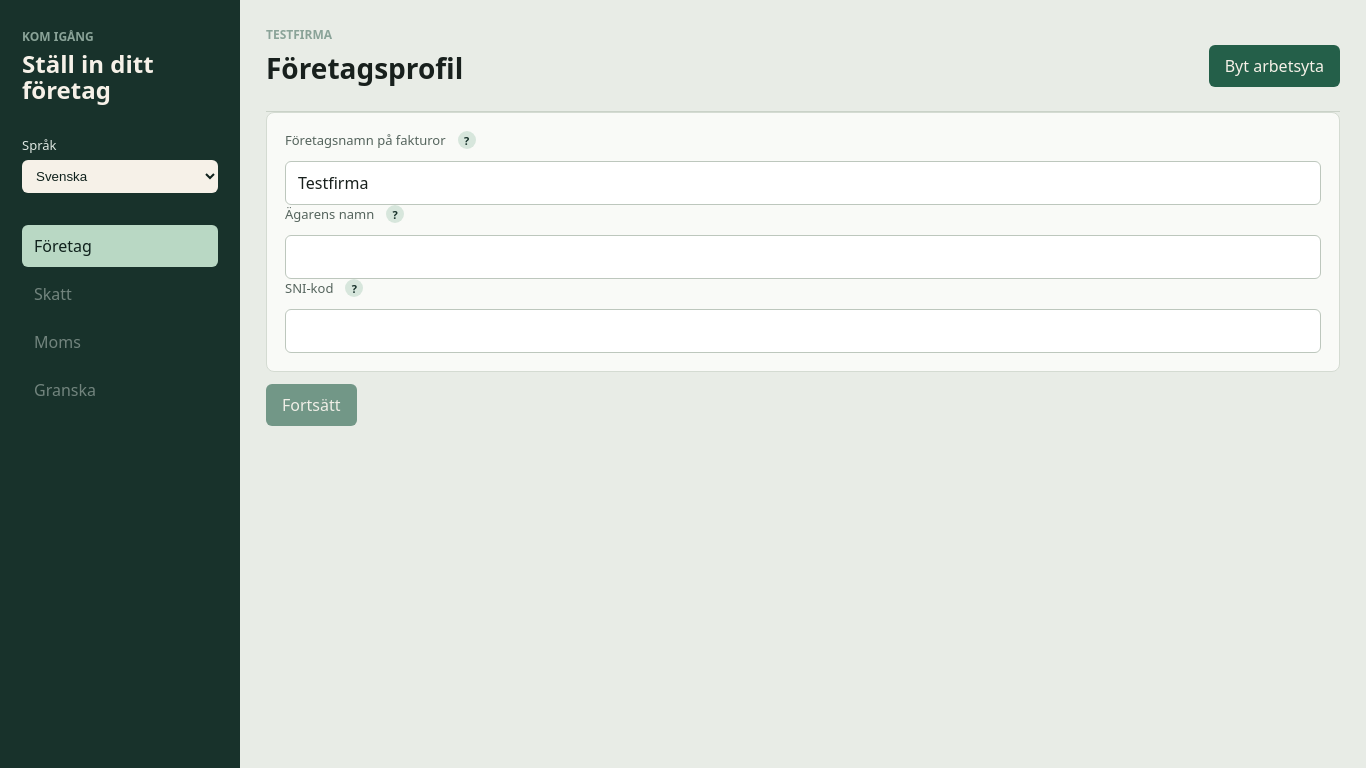
Test case: OnboardingPage › switches onboarding language and persists workspace locale
Expected: the heading "Ställ in ditt företag" is shown, top-left (22, 47), bottom-right (154, 106)
Select "Engelska" in the dropdown labelled "Språk" at point(120, 176), box top-left (22, 160), bottom-right (218, 193)
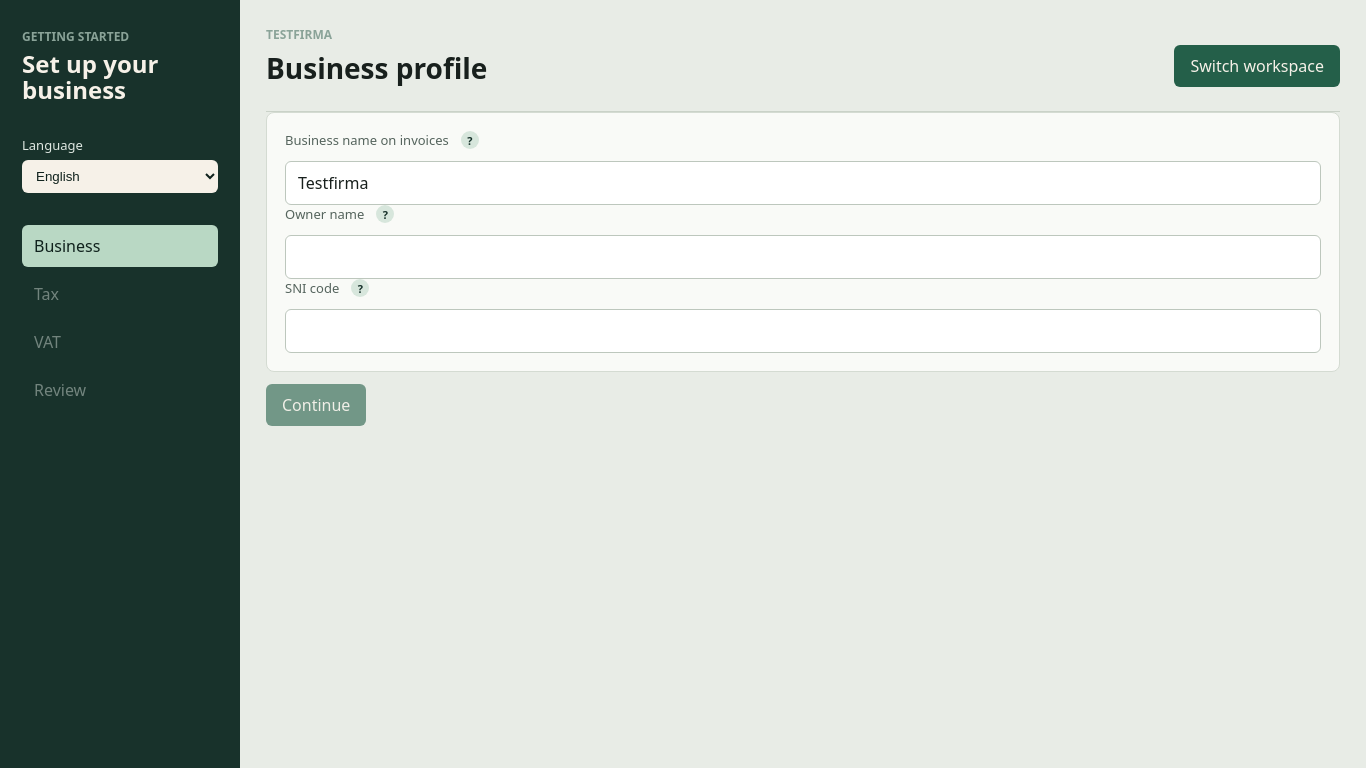
Result: the heading "Set up your business" is shown at top-left (22, 47), bottom-right (158, 106)
